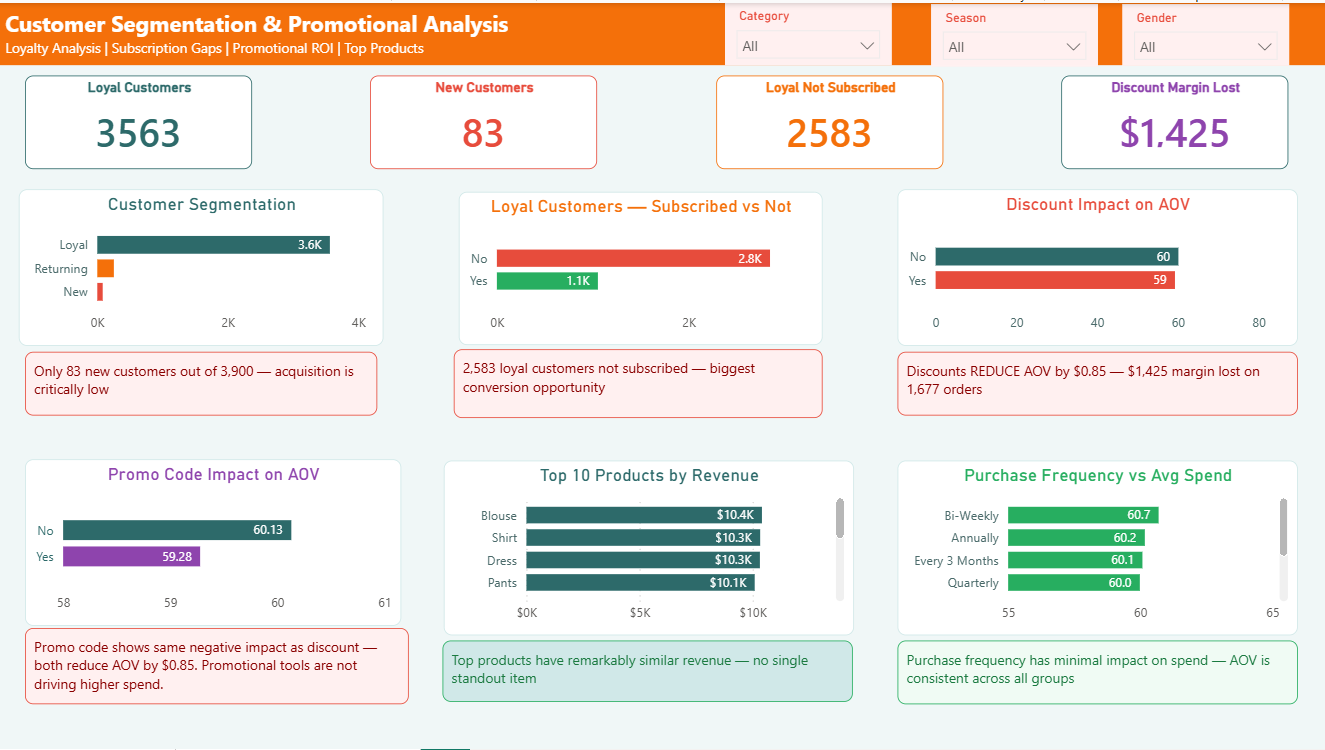

The dashboard page shown, as its layout file describes it:
{"tool":"powerbi","page":{"name":"Segmentation & Promotions","canvas":[1280,720],"ordinal":1},"visuals":[{"type":"textbox","box":[0,0,1280.5,60],"z":0},{"type":"cardVisual","title":"Loyal Customers","fields":{"Data":["cleaned_shopping_data.Loyal Customers"]},"box":[24.1,70,219.6,90.5],"z":1000},{"type":"cardVisual","title":"New Customers","fields":{"Data":["cleaned_shopping_data.New Customers"]},"box":[357.5,70,219.6,90.5],"z":2000},{"type":"cardVisual","title":"Loyal Not Subscribed","fields":{"Data":["cleaned_shopping_data.Loyal Not Subscribed"]},"box":[690.9,70,219.6,90.5],"z":3000},{"type":"cardVisual","title":"Discount Margin Lost","fields":{"Data":["cleaned_shopping_data.Margin Lost To Discounts"]},"box":[1024.3,70,219.6,90.5],"z":4000},{"type":"clusteredBarChart","title":"Customer Segmentation","fields":{"Category":["cleaned_shopping_data.Custom_segment"],"Y":["cleaned_shopping_data.Total Customers"]},"box":[18.1,179.8,352.3,150.8],"z":5000},{"type":"textbox","box":[24.1,336.6,340.2,61.5],"z":6000},{"type":"clusteredBarChart","title":"Loyal Customers — Subscribed vs Not","fields":{"Category":["cleaned_shopping_data.subscription_status"],"Y":["cleaned_shopping_data.Total Customers"]},"box":[442.8,182.2,351.1,148.4],"z":7000},{"type":"textbox","box":[437.3,334.2,355.9,66.4],"z":8000},{"type":"clusteredBarChart","title":"Discount Impact on AOV","fields":{"Category":["cleaned_shopping_data.discount_applied"],"Y":["cleaned_shopping_data.Avg Order Value"]},"box":[866.2,179.8,386.1,150.8],"z":9000},{"type":"textbox","box":[866.2,336.6,386.1,61.5],"z":10000},{"type":"clusteredBarChart","title":"Promo Code Impact on AOV","fields":{"Y":["Avg(cleaned_shopping_data.purchase_amount)"],"Category":["cleaned_shopping_data.promo_code_used"]},"box":[24.1,440.4,363.1,160.5],"z":11000},{"type":"textbox","box":[24.1,603.2,370.4,73.6],"z":12000},{"type":"clusteredBarChart","title":"Top 10 Products by Revenue","fields":{"Category":["cleaned_shopping_data.item_purchased"],"Y":["cleaned_shopping_data.Total Revenue"]},"box":[428.8,441.6,395.7,168.9],"z":13000},{"type":"textbox","box":[427.1,615.3,395.7,59.1],"z":14000},{"type":"clusteredBarChart","title":"Purchase Frequency vs Avg Spend","fields":{"Category":["cleaned_shopping_data.frequency_of_purchases"],"Y":["cleaned_shopping_data.Avg Order Value"]},"box":[866,442,386,169],"z":15000},{"type":"textbox","box":[866.2,615.3,386.1,61.5],"z":16000},{"type":"slicer","fields":{"Values":["cleaned_shopping_data.category"]},"box":[699.7,0,160.5,60.3],"z":17000},{"type":"slicer","fields":{"Values":["cleaned_shopping_data.season"]},"box":[898.8,1.2,160.5,60.3],"z":18000},{"type":"slicer","fields":{"Values":["cleaned_shopping_data.gender"]},"box":[1083.4,1.2,160.5,59.1],"z":19000}]}

Visuals, with their boxes in screenshot pixels (x1, y1, x2, y2), scaled from the page's 1280x720 canvas onto the 1325x750 screenshot:
textbox: x1=0 y1=0 x2=1324 y2=63
"Loyal Customers" cardVisual: x1=25 y1=73 x2=252 y2=167
"New Customers" cardVisual: x1=370 y1=73 x2=597 y2=167
"Loyal Not Subscribed" cardVisual: x1=715 y1=73 x2=943 y2=167
"Discount Margin Lost" cardVisual: x1=1060 y1=73 x2=1288 y2=167
"Customer Segmentation" clusteredBarChart: x1=19 y1=187 x2=383 y2=344
textbox: x1=25 y1=351 x2=377 y2=415
"Loyal Customers — Subscribed vs Not" clusteredBarChart: x1=458 y1=190 x2=822 y2=344
textbox: x1=453 y1=348 x2=821 y2=417
"Discount Impact on AOV" clusteredBarChart: x1=897 y1=187 x2=1296 y2=344
textbox: x1=897 y1=351 x2=1296 y2=415
"Promo Code Impact on AOV" clusteredBarChart: x1=25 y1=459 x2=401 y2=626
textbox: x1=25 y1=628 x2=408 y2=705
"Top 10 Products by Revenue" clusteredBarChart: x1=444 y1=460 x2=853 y2=636
textbox: x1=442 y1=641 x2=852 y2=702
"Purchase Frequency vs Avg Spend" clusteredBarChart: x1=896 y1=460 x2=1296 y2=636
textbox: x1=897 y1=641 x2=1296 y2=705
slicer - cleaned_shopping_data.category: x1=724 y1=0 x2=890 y2=63
slicer - cleaned_shopping_data.season: x1=930 y1=1 x2=1097 y2=64
slicer - cleaned_shopping_data.gender: x1=1121 y1=1 x2=1288 y2=63
